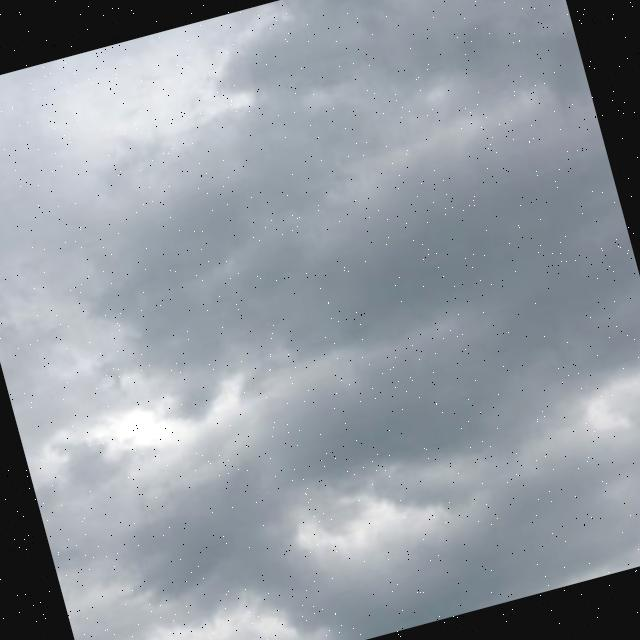As: (1, 1, 640, 507)
